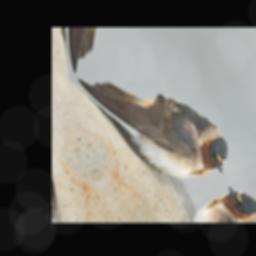Swallow: (76, 37, 239, 206)
